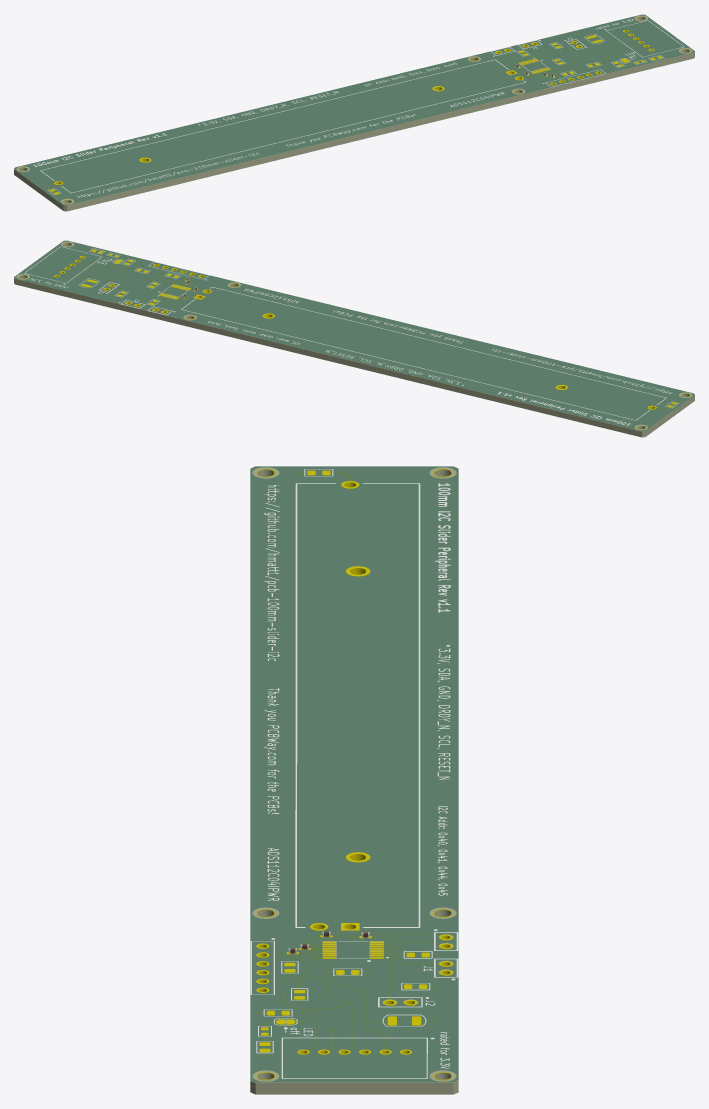
The model's file is slider1.glb.
The picture shows the model from 3 angles, top to bottom: view 1: azimuth 30°, elevation 25°; view 2: azimuth 150°, elevation 25°; view 3: azimuth 270°, elevation 25°; orthographic projection. The views are drawn at different scales.
Visible parts, largest first — view 1: =>[0:1:1:5], =>[0:1:1:7], =>[0:1:1:4], =>[0:1:1:3], =>[0:1:1:6]; view 2: =>[0:1:1:5], =>[0:1:1:7], =>[0:1:1:4], =>[0:1:1:3], =>[0:1:1:6]; view 3: =>[0:1:1:5], =>[0:1:1:7], =>[0:1:1:4], =>[0:1:1:3].
Boxes of the visible parts, x1=… form: =>[0:1:1:5]: x1=14, y1=14, x2=694, y2=205; =>[0:1:1:7]: x1=14, y1=15, x2=694, y2=211; =>[0:1:1:4]: x1=33, y1=19, x2=683, y2=197; =>[0:1:1:3]: x1=18, y1=16, x2=690, y2=203; =>[0:1:1:6]: x1=14, y1=57, x2=694, y2=211; =>[0:1:1:5]: x1=14, y1=240, x2=694, y2=431; =>[0:1:1:7]: x1=14, y1=241, x2=694, y2=437; =>[0:1:1:4]: x1=24, y1=246, x2=679, y2=425; =>[0:1:1:3]: x1=18, y1=242, x2=690, y2=429; =>[0:1:1:6]: x1=14, y1=283, x2=694, y2=437; =>[0:1:1:5]: x1=250, y1=466, x2=458, y2=1082; =>[0:1:1:7]: x1=250, y1=467, x2=458, y2=1094; =>[0:1:1:4]: x1=250, y1=469, x2=458, y2=1078; =>[0:1:1:3]: x1=256, y1=469, x2=452, y2=1080.
Size of the model in its own units: 0.1778 by 0.00215 by 0.0254.
